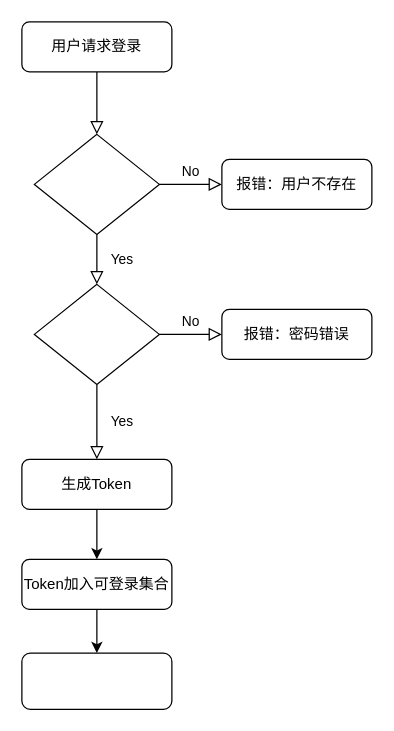
The diagram is 394 pixels wide and 731 high, and some of its shapes have lost their labels. The shapes that lost their labels are listed below. From the top down, each one's centre as x and y in pixels, then its label:
At point 96,183: "存在用户？".
At point 96,333: "密码正确？".
At point 96,680: "返回Token".
